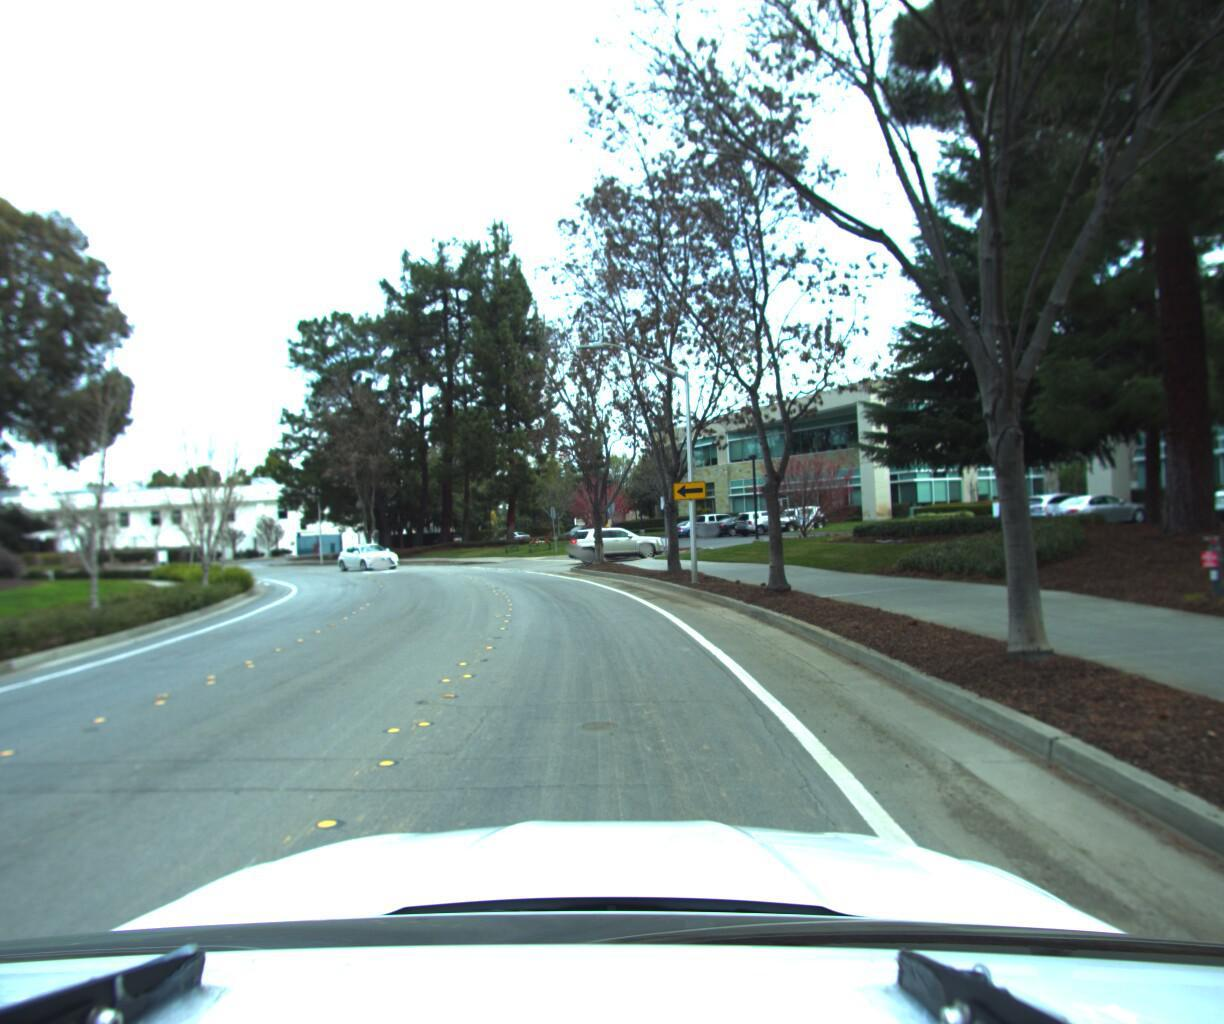car: (563, 517, 666, 561), (330, 539, 405, 569)
